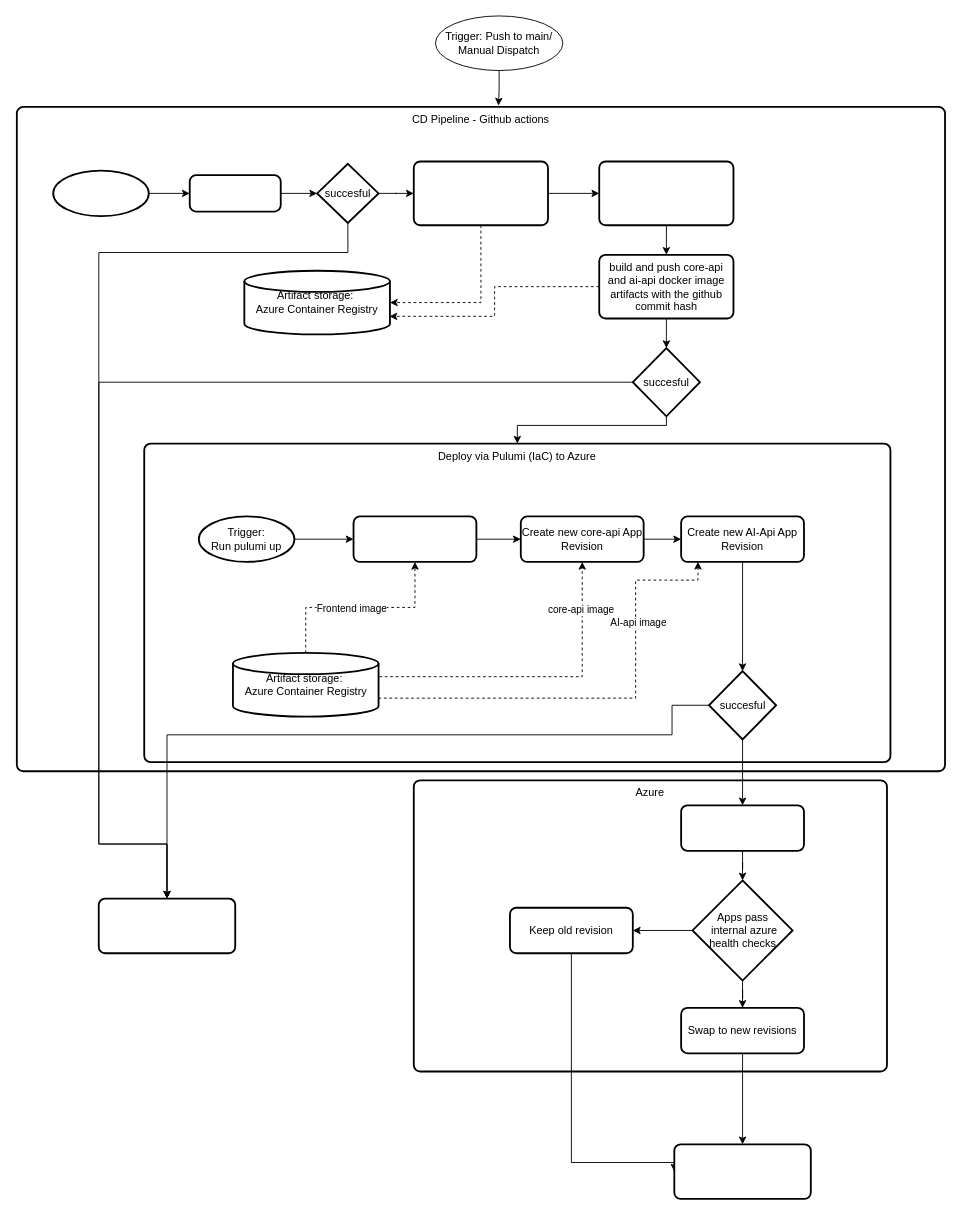
This 961x1216 diagram has some shape labels left out. The shapes that lost their labels are listed below. From the top down, each one's centre as x and y in pixels, then its label:
At (100,193): "Job: build-deploy".
At (234,193): "Log in to azure".
At (480,193): "build and push frontend docker image artifact with the github commit hash".
At (666,193): "Create new Sentry release and uploads source maps".
At (414,538): "Create new Frontend App Revision".
At (742,827): "Core-Api app runs database migrations".
At (166,925): "Failure path: CD pipeline is aborted".
At (742,1171): "Success Path: CD pipeline completes, new version pushed to Main branch".
